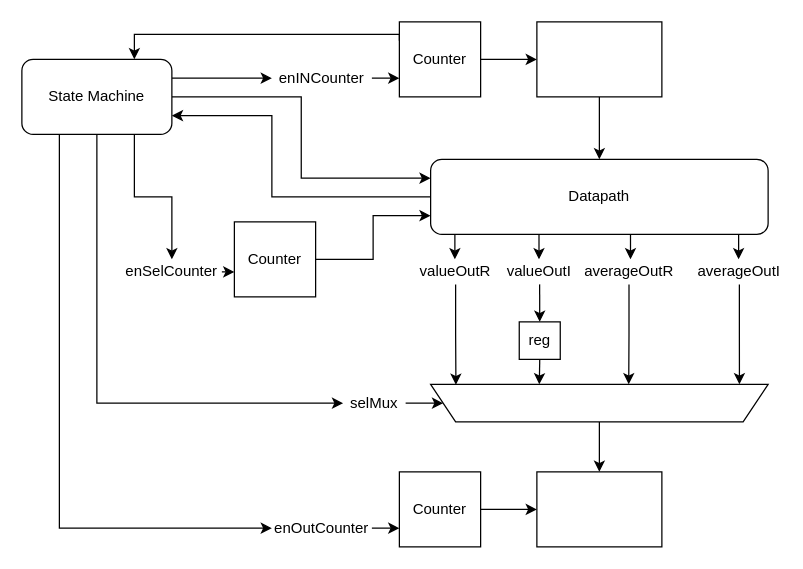
The diagram is 803 pixels wide and 569 high, and some of its shapes have lost their labels. Each missing label, with the centre of its shape:
MemIN: (x=599, y=59)
MemOut: (x=599, y=509)
Mux4:1: (x=598, y=402)
